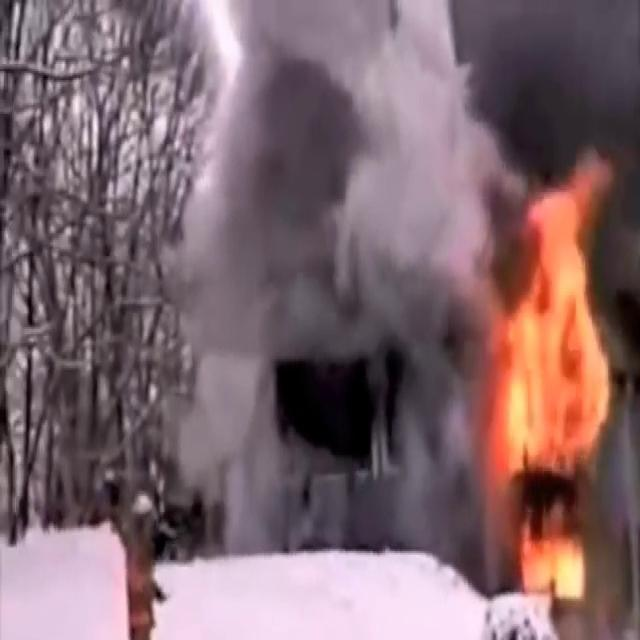Fire: (477, 158, 627, 604)
Smoke: (128, 0, 510, 578)
